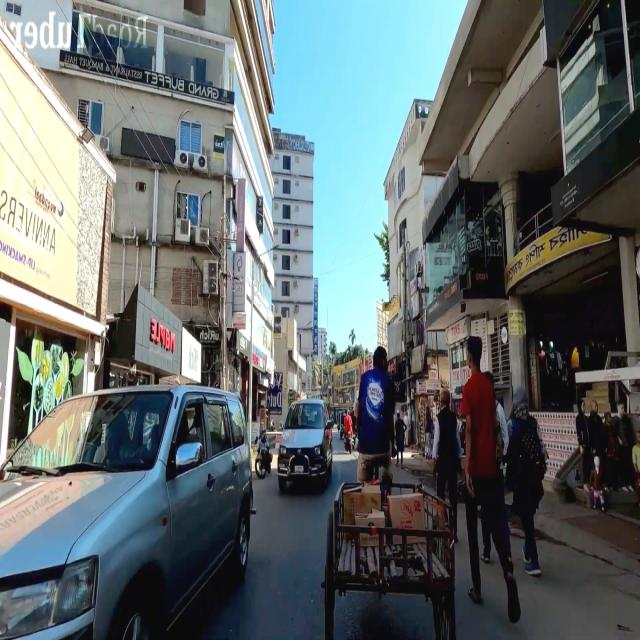silver: (2, 381, 254, 640), (274, 396, 335, 490)
